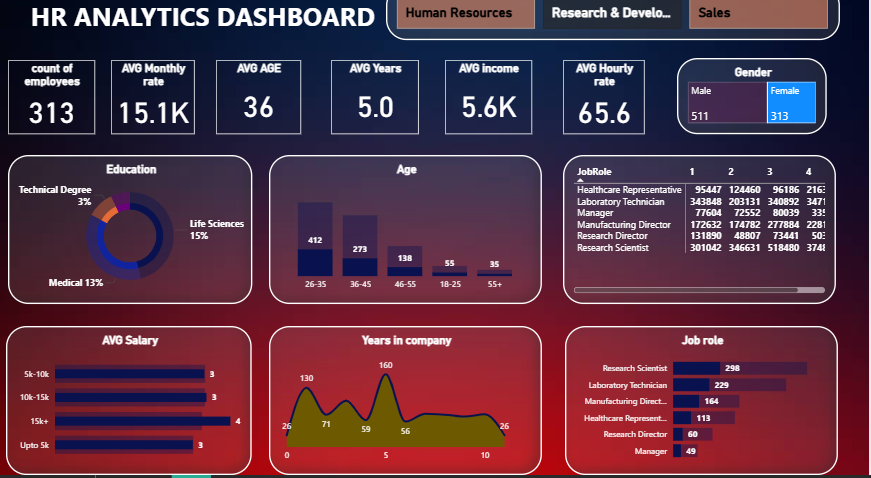

The dashboard page shown, as its layout file describes it:
{"tool":"powerbi","page":{"name":"Page 1","canvas":[1280,720],"ordinal":0},"visuals":[{"type":"card","title":"count of employees","fields":{"Values":["CountNonNull(HR_Analytics.EmpID)"]},"box":[16.2,110.2,127.8,108.7],"z":0},{"type":"card","title":"AVG AGE","fields":{"Values":["HR_Analytics.AVG AGE"]},"box":[321.8,110.2,124.9,108.7],"z":1000},{"type":"card","title":" AVG Monthly rate","fields":{"Values":["Avg(HR_Analytics.MonthlyRate)"]},"box":[167.5,110.2,123.4,108.7],"z":2000},{"type":"card","title":"AVG Years ","fields":{"Values":["Avg(HR_Analytics.YearsAtCompany)"]},"box":[490.8,110.2,129.3,108.7],"z":3000},{"type":"card","title":"AVG  income","fields":{"Values":["Avg(HR_Analytics.MonthlyIncome)"]},"box":[658.3,110.2,127.8,108.7],"z":4000},{"type":"donutChart","title":" Education","fields":{"Category":["HR_Analytics.EducationField"],"Y":["Sum(HR_Analytics.Education)"]},"box":[16.2,249.8,358.5,218.9],"z":5000},{"type":"clusteredColumnChart","title":" Age","fields":{"Category":["HR_Analytics.AgeGroup"],"Y":["Sum(HR_Analytics.Education)"]},"box":[399.7,249.8,401.1,218.9],"z":6000},{"type":"pivotTable","fields":{"Rows":["HR_Analytics.JobRole"],"Columns":["HR_Analytics.JobSatisfaction"],"Values":["Sum(HR_Analytics.MonthlyRate)"]},"box":[831.7,249.8,401.1,218.9],"z":7000},{"type":"card","title":"AVG Hourly rate","fields":{"Values":["Avg(HR_Analytics.HourlyRate)"]},"box":[831.7,110.2,120.5,108.7],"z":8000},{"type":"clusteredBarChart","title":"AVG Salary","fields":{"Category":["HR_Analytics.SalarySlab"],"Y":["Avg(HR_Analytics.Education)"]},"box":[13.2,501.1,361.5,218.9],"z":9000},{"type":"clusteredBarChart","title":"Job role","fields":{"Category":["HR_Analytics.JobRole"],"Y":["Sum(HR_Analytics.Education)"]},"box":[834.6,501.1,401.1,218.9],"z":10000},{"type":"areaChart","title":"Years in company","fields":{"Category":["HR_Analytics.YearsAtCompany"],"Y":["Sum(HR_Analytics.Education)"]},"box":[399.7,501.1,401.1,218.9],"z":11000},{"type":"treemap","title":"Attrition by Age","fields":{"Group":["HR_Analytics.Gender"],"Values":["CountNonNull(HR_Analytics.atrritioncount)"]},"box":[999.2,107.3,220.4,111.7],"z":12000},{"type":"advancedSlicerVisual","fields":{"Values":["HR_Analytics.Department"]},"box":[571.6,0,667.1,80.8],"z":12001},{"type":"textbox","box":[33.8,14.7,537.8,66.1],"z":12002}]}

Visuals, with their boxes in screenshot pixels (x1, y1, x2, y2), scaled from the page's 1280x720 canvas onto the 871x478 screenshot:
"count of employees" card: x1=11, y1=73, x2=98, y2=145
"AVG AGE" card: x1=219, y1=73, x2=304, y2=145
" AVG Monthly rate" card: x1=114, y1=73, x2=198, y2=145
"AVG Years " card: x1=334, y1=73, x2=422, y2=145
"AVG  income" card: x1=448, y1=73, x2=535, y2=145
" Education" donutChart: x1=11, y1=166, x2=255, y2=311
" Age" clusteredColumnChart: x1=272, y1=166, x2=545, y2=311
pivotTable - HR_Analytics.JobRole x HR_Analytics.JobSatisfaction: x1=566, y1=166, x2=839, y2=311
"AVG Hourly rate" card: x1=566, y1=73, x2=648, y2=145
"AVG Salary" clusteredBarChart: x1=9, y1=333, x2=255, y2=477
"Job role" clusteredBarChart: x1=568, y1=333, x2=841, y2=477
"Years in company" areaChart: x1=272, y1=333, x2=545, y2=477
"Attrition by Age" treemap: x1=680, y1=71, x2=830, y2=145
advancedSlicerVisual - HR_Analytics.Department: x1=389, y1=0, x2=843, y2=54
textbox: x1=23, y1=10, x2=389, y2=54
